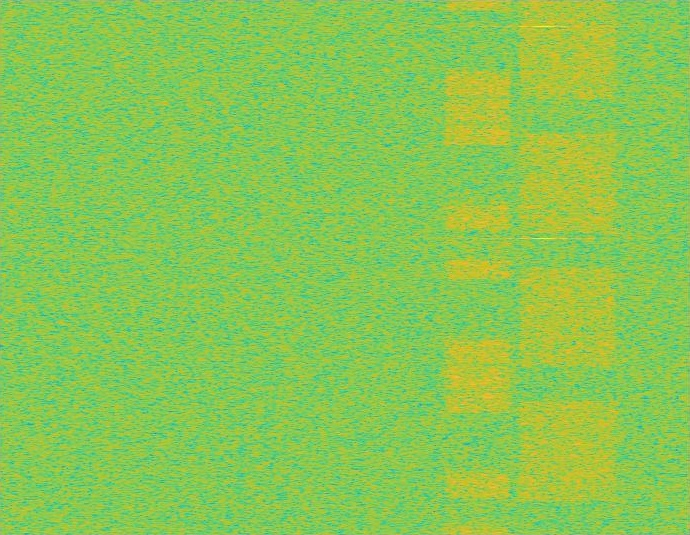5G: (517, 0, 620, 534)
LTE: (444, 0, 513, 534)
Radar: (537, 0, 551, 534)
